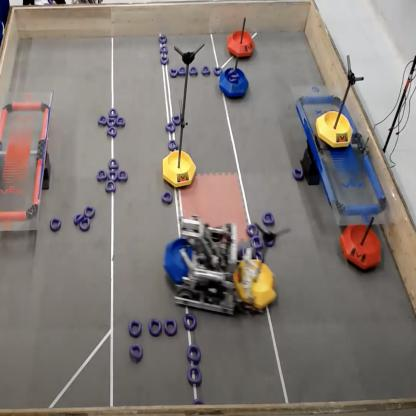ring: (186, 365, 202, 384), (186, 344, 200, 362), (148, 318, 161, 336), (183, 312, 196, 330), (129, 344, 142, 361), (164, 319, 177, 335), (129, 320, 141, 337), (250, 236, 263, 249), (246, 223, 259, 236), (292, 168, 304, 181), (262, 212, 274, 225), (50, 217, 61, 231), (79, 217, 90, 231), (264, 233, 275, 247), (162, 190, 172, 204), (83, 206, 94, 218), (106, 179, 116, 192), (108, 158, 118, 170), (168, 138, 178, 150), (108, 107, 118, 118), (107, 170, 117, 181), (73, 214, 84, 224), (98, 114, 107, 126), (106, 117, 116, 127), (106, 126, 116, 136), (171, 115, 181, 125), (165, 122, 175, 132), (253, 250, 263, 260), (118, 170, 127, 181), (97, 169, 106, 180), (191, 398, 204, 405), (201, 64, 210, 74), (213, 66, 222, 76), (169, 68, 178, 77), (160, 55, 168, 65), (178, 66, 186, 76), (116, 117, 124, 126), (159, 45, 168, 53), (189, 66, 197, 75), (230, 72, 240, 79), (228, 74, 238, 81), (158, 35, 166, 43), (228, 67, 235, 74)
